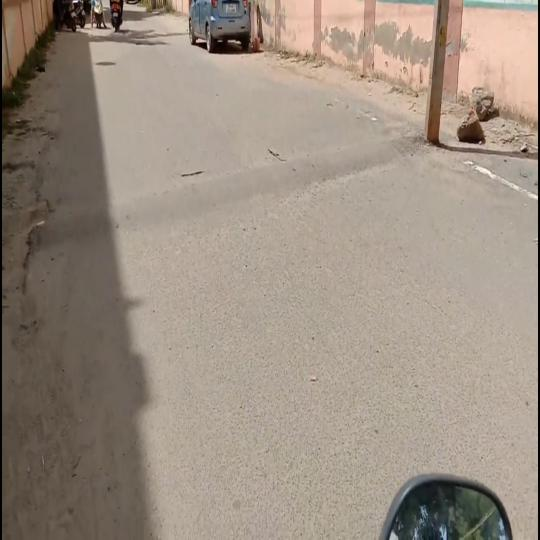Speed Bump: (26, 129, 426, 239)
